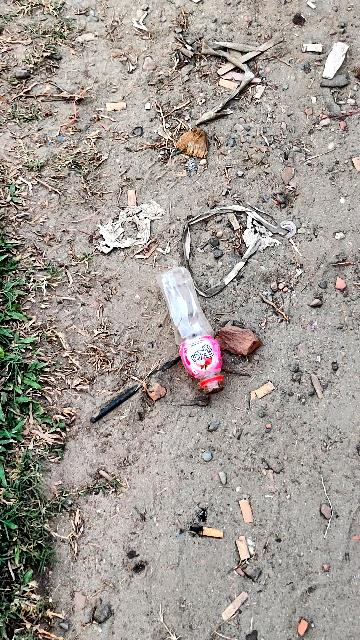bottle: (147, 256, 232, 402)
